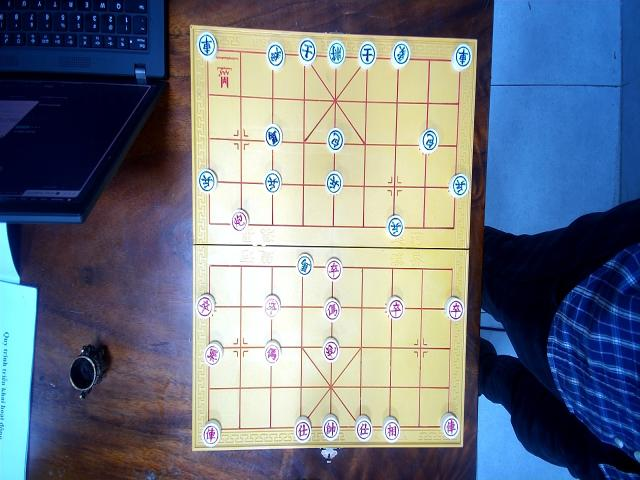piece: (196, 30, 218, 60), (450, 43, 472, 72), (448, 172, 470, 199), (390, 41, 410, 69), (326, 40, 346, 68), (418, 128, 438, 155), (440, 412, 460, 439), (266, 41, 285, 69), (358, 40, 377, 68), (444, 296, 464, 322), (201, 420, 221, 446), (381, 416, 400, 443), (299, 38, 317, 66), (197, 168, 217, 193), (326, 127, 345, 153), (203, 341, 222, 367), (294, 416, 312, 443), (354, 415, 372, 442), (322, 414, 340, 441), (264, 123, 282, 149), (196, 292, 214, 318), (322, 337, 340, 363), (386, 295, 404, 320), (323, 297, 341, 322), (325, 257, 343, 281), (386, 215, 404, 239), (325, 171, 343, 195), (263, 171, 281, 194), (231, 208, 249, 231), (265, 340, 281, 364), (297, 253, 313, 277), (264, 294, 280, 318)
